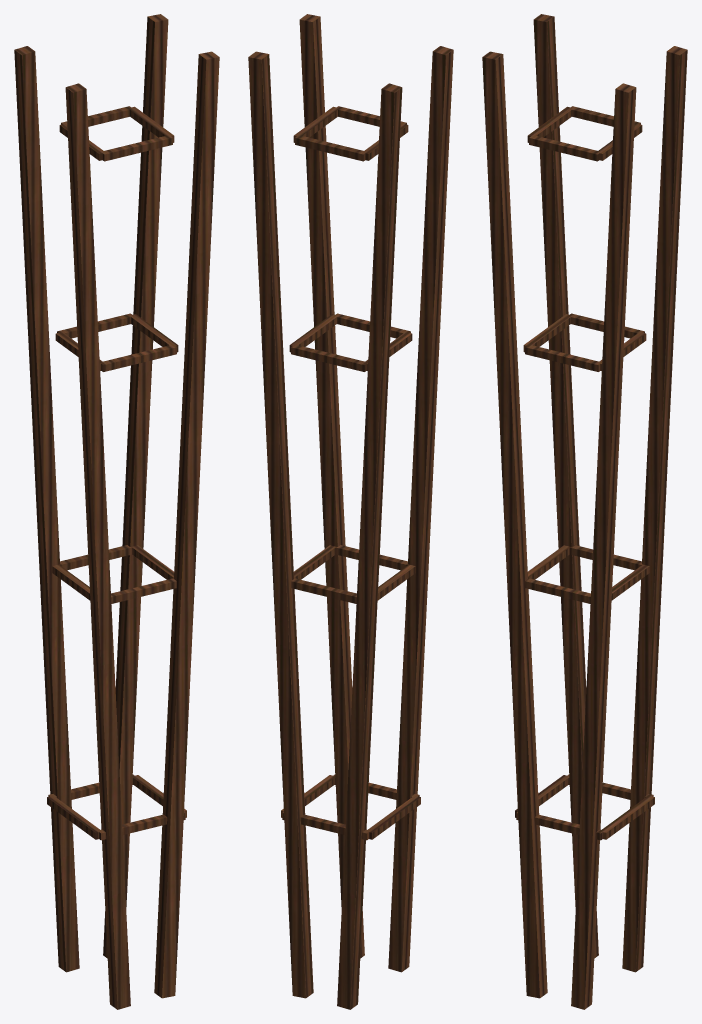
The model's file is lattice_mast_01.glb.
3 views of the same model, side by side, from view 1: azimuth 30°, elevation 25°; view 2: azimuth 150°, elevation 25°; view 3: azimuth 330°, elevation 25° (orthographic).
Parts seen in each view (by area): view 1: lattice_mast_01; view 2: lattice_mast_01; view 3: lattice_mast_01.
Boxes of the visible parts, x1,y1,x2,y2 form: lattice_mast_01: (14, 14, 219, 1009); lattice_mast_01: (248, 14, 453, 1009); lattice_mast_01: (482, 14, 687, 1009).
Size of the model in its own units: 1.32 by 8 by 0.9195.
Materials: 1 (1 with a texture image).
